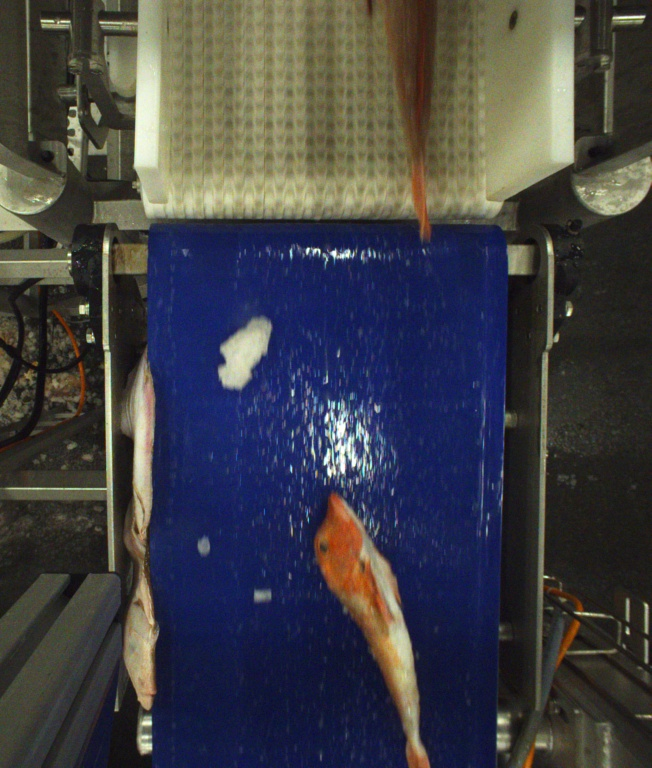GUU: (308, 491, 433, 763)
